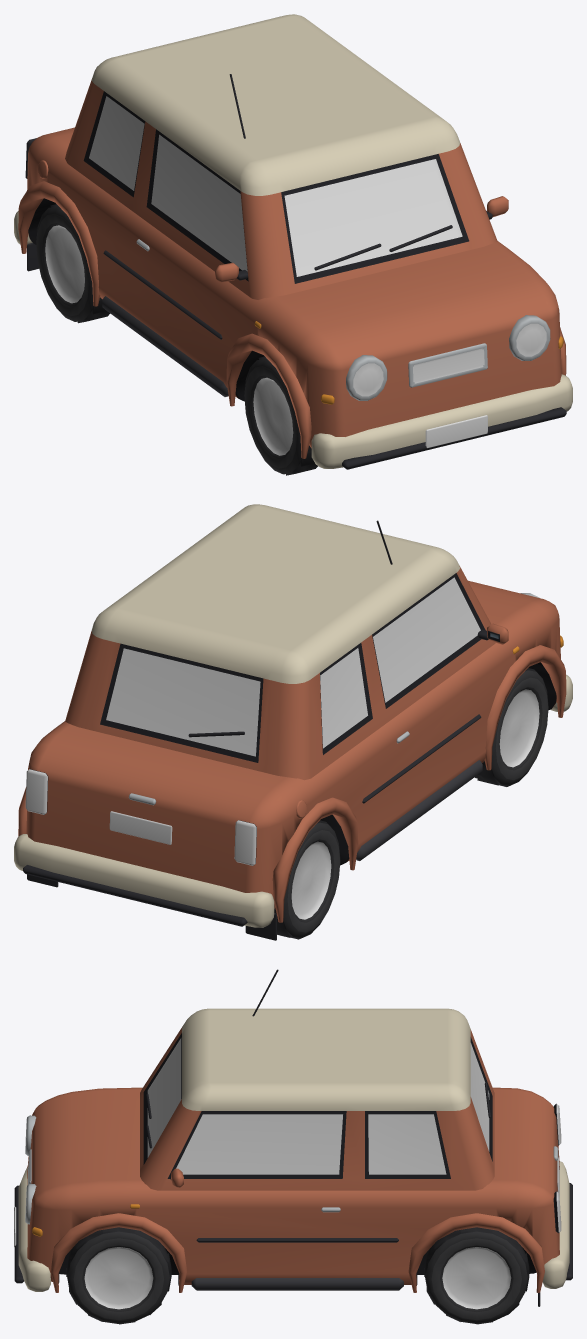
File: Hatch.fbx
3 renders of one model, top to bottom at view 1: azimuth 30°, elevation 25°; view 2: azimuth 150°, elevation 25°; view 3: azimuth 270°, elevation 25°, orthographic. The views are drawn at different scales.
Visible parts, largest first — view 1: Body, Wheel.FR, Wheel.RR; view 2: Body, Wheel.FR, Wheel.RR; view 3: Body, Wheel.RL, Wheel.FL.
Boxes of the visible parts, x1=… form: Body: x1=14, y1=14, x2=572, y2=469; Wheel.FR: x1=244, y1=356, x2=317, y2=475; Wheel.RR: x1=36, y1=204, x2=109, y2=323; Body: x1=14, y1=504, x2=572, y2=940; Wheel.FR: x1=474, y1=668, x2=548, y2=786; Wheel.RR: x1=274, y1=820, x2=340, y2=939; Body: x1=14, y1=969, x2=572, y2=1306; Wheel.RL: x1=424, y1=1227, x2=529, y2=1324; Wheel.FL: x1=66, y1=1227, x2=171, y2=1324.
Bounding box in the file's own units: 1.79 × 1.87 × 3.45.
